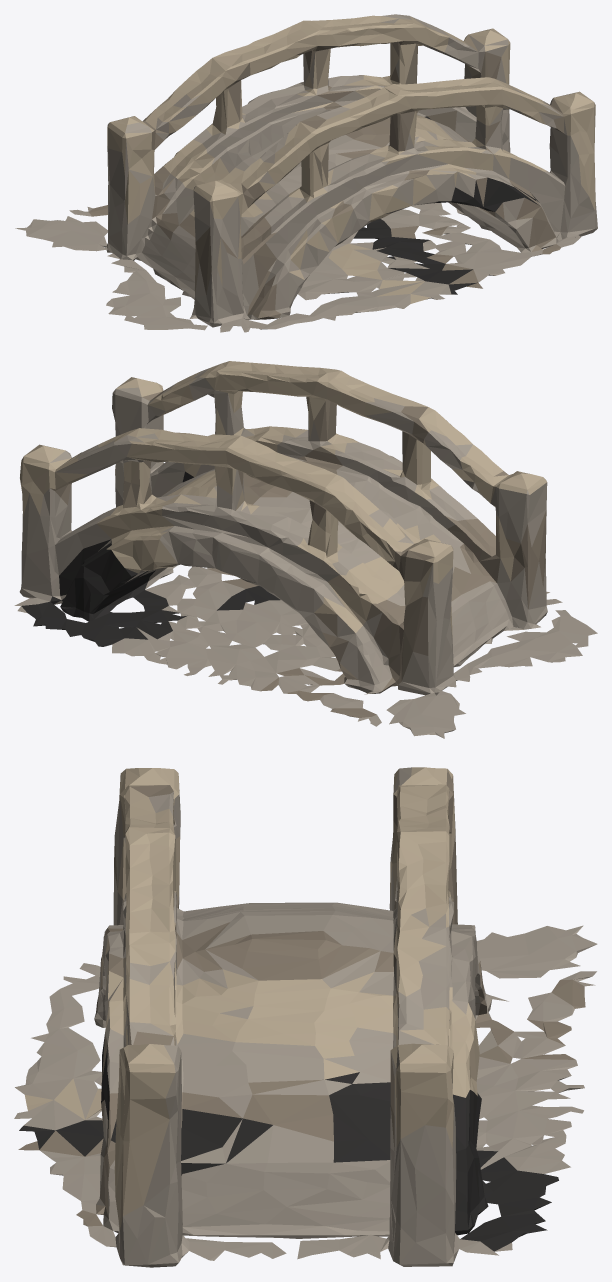
The model's file is bridge.glb.
3 renders of one model, top to bottom at view 1: azimuth 30°, elevation 25°; view 2: azimuth 150°, elevation 25°; view 3: azimuth 270°, elevation 25°, orthographic. The views are drawn at different scales.
Parts seen in each view (by area): view 1: geometry_0; view 2: geometry_0; view 3: geometry_0.
Part boxes in pixels (box(x1,y1,x2,y2)): geometry_0: box(15, 14, 597, 332); geometry_0: box(14, 361, 597, 738); geometry_0: box(14, 767, 597, 1267).
Bounding box in the file's own units: 1.98 × 0.7671 × 1.39.
